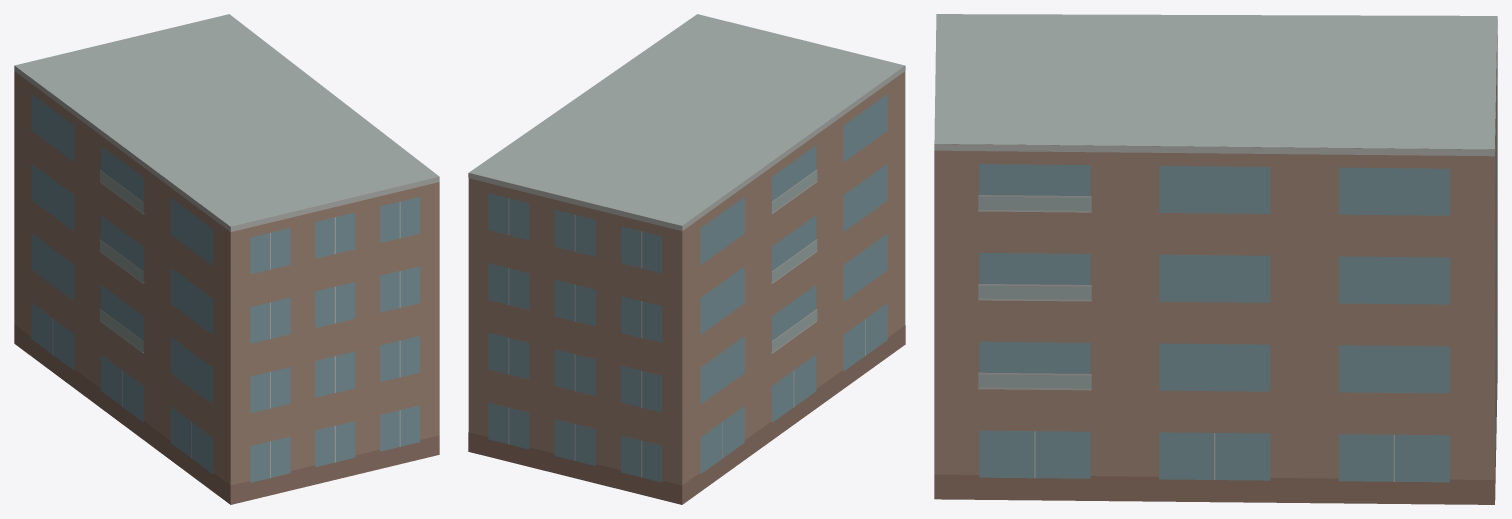
Rendered from survey-upis-32742592.glb.
The picture shows the model from 3 angles, left to right: view 1: azimuth 30°, elevation 25°; view 2: azimuth 150°, elevation 25°; view 3: azimuth 270°, elevation 25°; orthographic projection. The views are drawn at different scales.
Visible parts, largest first — view 1: survey-upis-32742592.tmp; view 2: survey-upis-32742592.tmp; view 3: survey-upis-32742592.tmp.
Boxes of the visible parts, x1,y1,x2,y2 form: survey-upis-32742592.tmp: (14, 14, 439, 504); survey-upis-32742592.tmp: (468, 14, 905, 504); survey-upis-32742592.tmp: (934, 14, 1497, 504).
Size of the model in its own units: 10.47 by 12.8 by 18.39.
